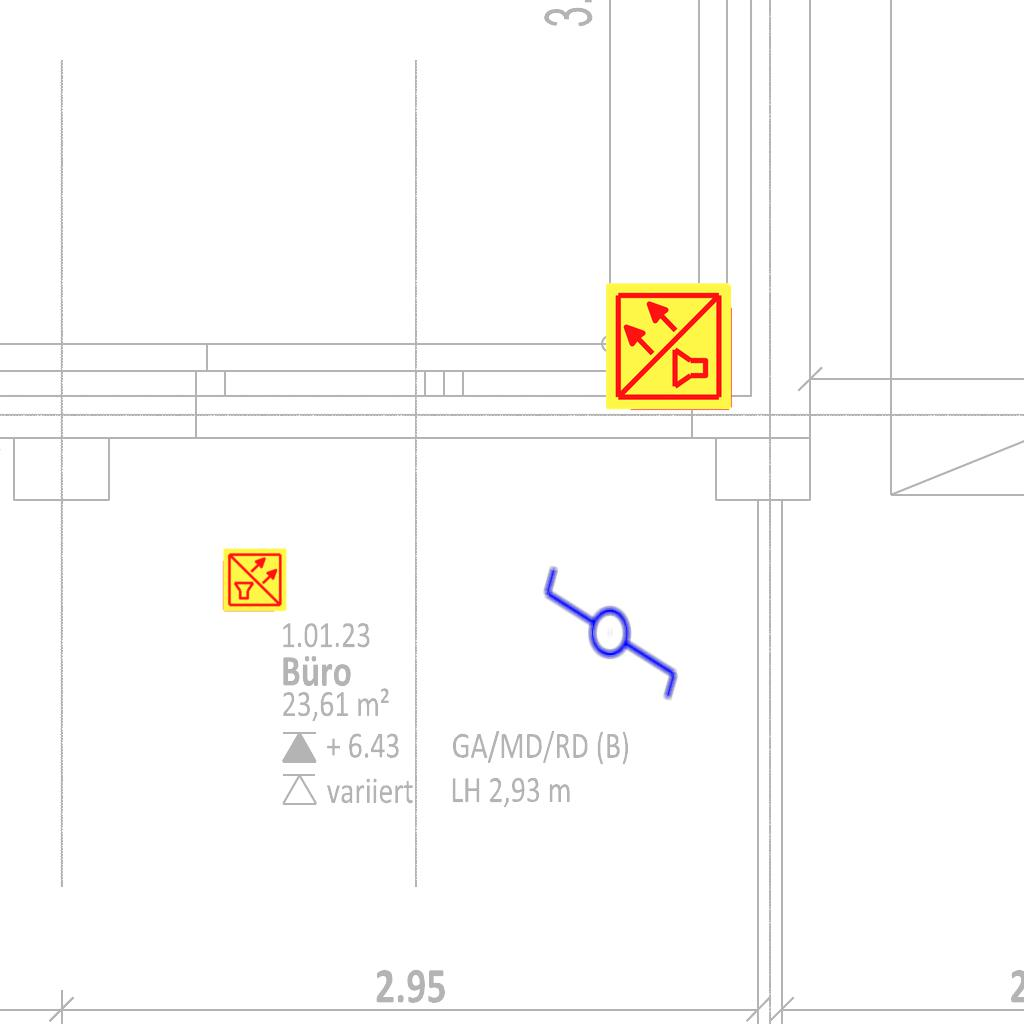OKW_Multisensormelder_(Kombination_optischer_Rauch-Kahlenmonoxid_Waerme-Melder): (603, 280, 735, 412), (222, 547, 288, 613)
Wechselschalter: (540, 546, 684, 703)
